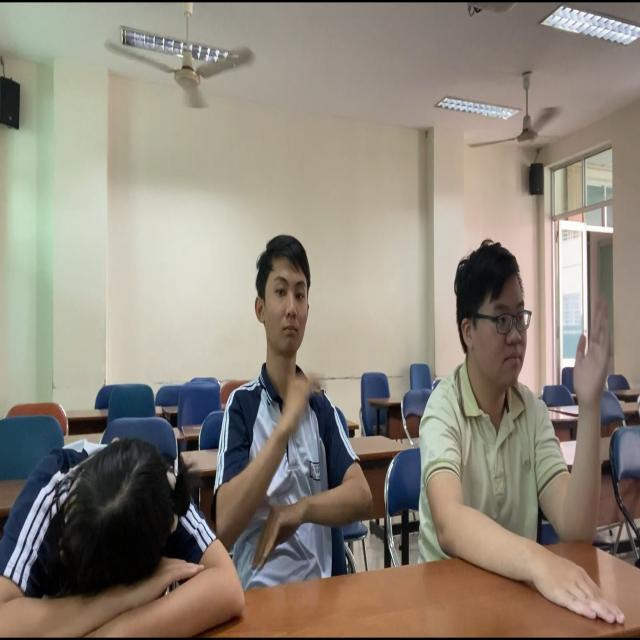raise_hand: (435, 241, 613, 615), (222, 234, 385, 580)
sleep: (1, 430, 212, 640)
